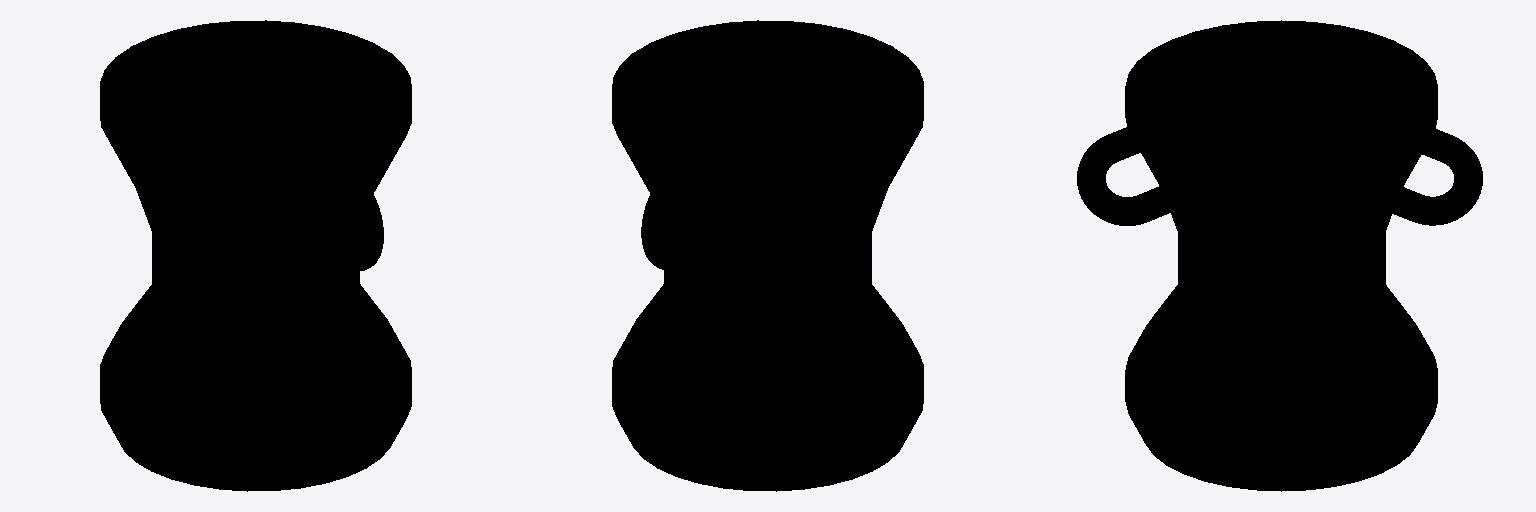
The robot description file, URDF, robot "jug":
<?xml version="1.0" ?>
<robot name="jug">
  <link name="baseLink">
    <contact>
      <lateral_friction value="1.0"/>
      <rolling_friction value="0.0"/>
      <contact_cfm value="0.0"/>
      <contact_erp value="1.0"/>
    </contact>
    <inertial>
      <origin rpy="0 0 0" xyz="0.0286 0.0050 0.0458"/>
       <mass value="0.136"/>
       <inertia ixx="0.00026764" ixy="-0.000000" ixz="-0.00000051" iyy="0.00026246" iyz="0.00000011" izz="0.00017293"/>
    </inertial>
    <visual>
      <origin rpy="0 0 0" xyz="0.0286 0.0050 0.0458"/>
      <geometry>
        <mesh filename="../obj/jug.obj" scale="0.001 0.001 0.001"/>
      </geometry>
       <material name="black">
        <color rgba="0 0 0 1"/>
      </material>
    </visual>
    <collision concave="yes">
      <origin rpy="0 0 0" xyz="0.0286 0.0050 0.0458"/>
      <geometry>
	 	<mesh filename="../obj/jug.obj" scale="0.001 0.001 0.001"/>
      </geometry>
    </collision>
  </link>
</robot>

--- Render facts (derived) ---
Views: 3 orthographic renders of the robot side by side, from view 1: azimuth 30°, elevation 25°; view 2: azimuth 150°, elevation 25°; view 3: azimuth 270°, elevation 25°.
Robot: jug — 1 links, 0 joints (none); root link baseLink; default pose: all joints at 0.
Links seen in each view (by area): view 1: baseLink; view 2: baseLink; view 3: baseLink.
Boxes of the visible links, bbox=[...] form: baseLink: bbox=[100, 20, 411, 491]; baseLink: bbox=[612, 20, 923, 491]; baseLink: bbox=[1077, 20, 1482, 491].
Bounding box of the posed robot: 0.09 × 0.117 × 0.11 m (x, y, z).
1 mesh visuals loaded from 1 distinct referenced files (1 OBJ).
